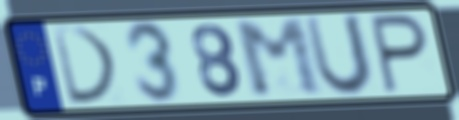3: (124, 17, 182, 109)
8: (189, 23, 243, 99)
D: (49, 25, 122, 108)
M: (230, 16, 327, 101)
P: (368, 12, 432, 97)
U: (301, 12, 377, 100)
